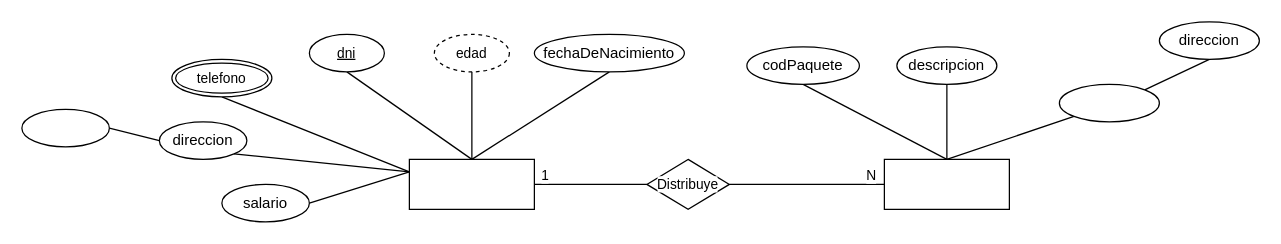
Image size: 1281x244. Some labels were removed from this diagram. The box of each missing label's shape, as (x1, y1, x2, y2) in pixels:
Camionero: (408, 158, 534, 209)
destinatario: (1058, 83, 1159, 122)
Paquete: (883, 158, 1009, 209)
poblacion: (21, 108, 109, 147)
